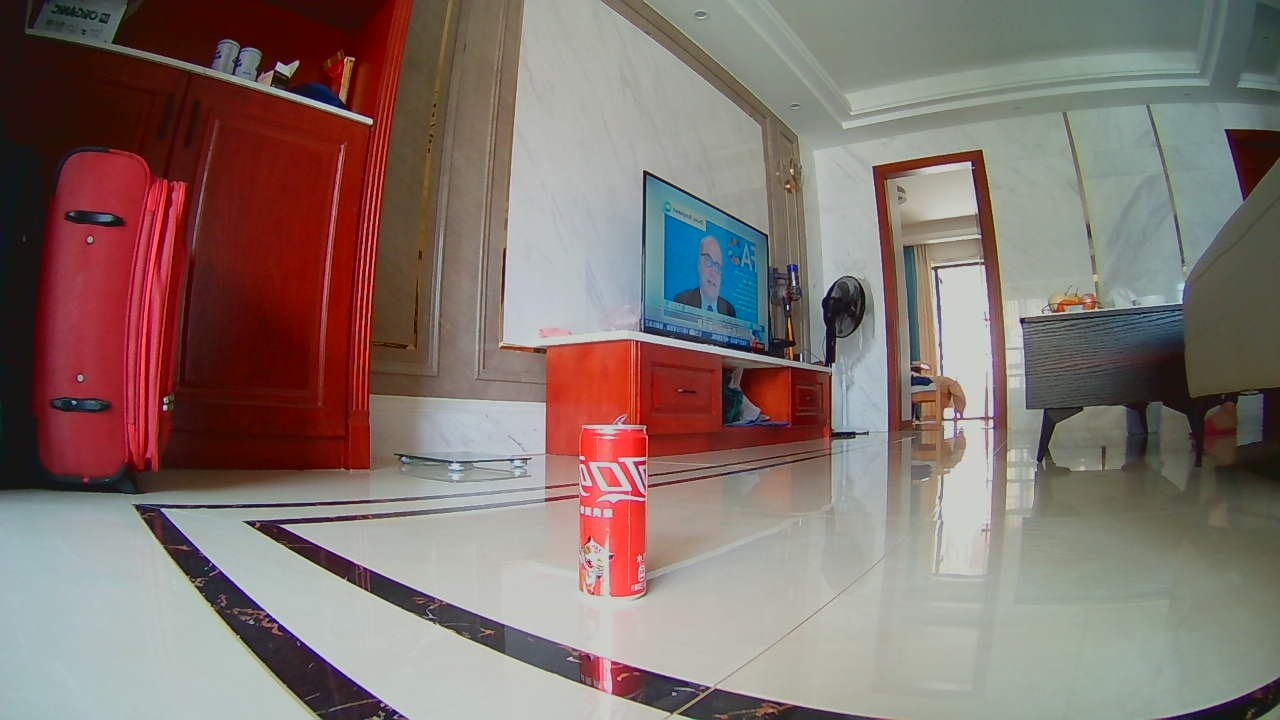cola: (575, 414, 649, 603)
